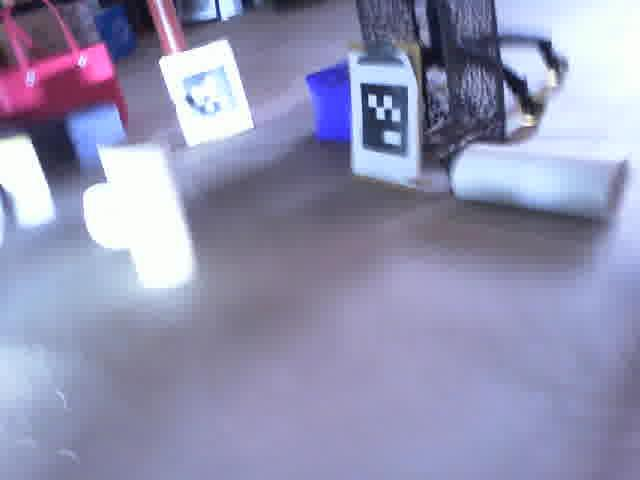coral: (97, 139, 197, 289), (82, 181, 135, 251)
